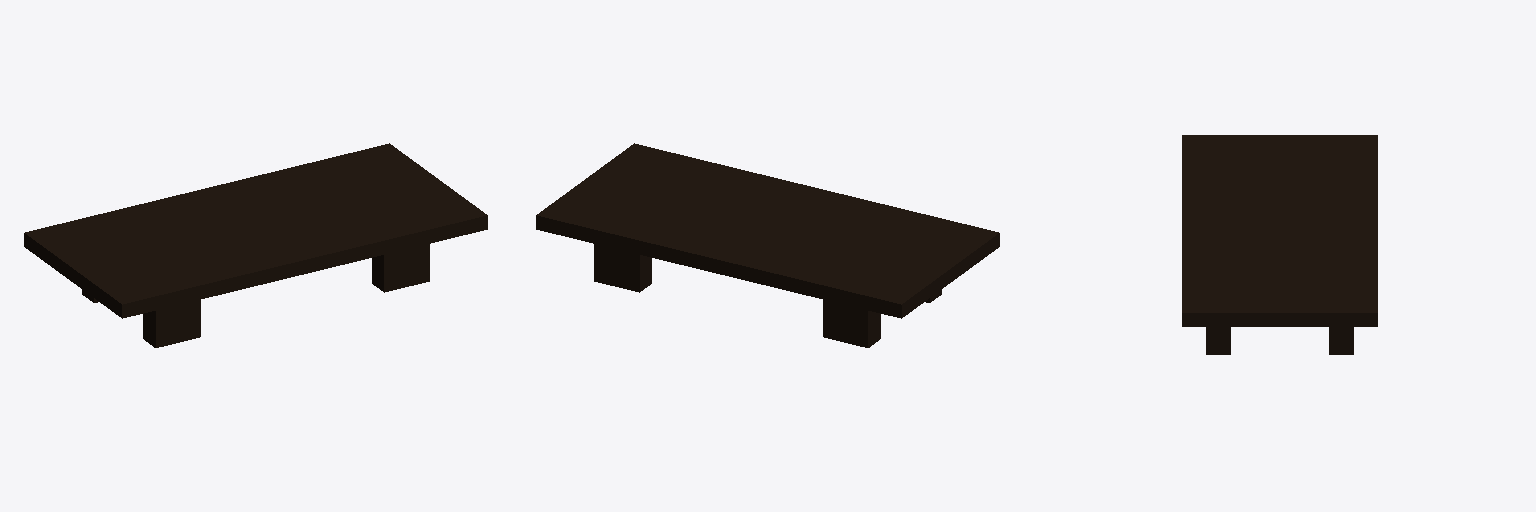
File: coffee_table.obj
The picture shows the model from 3 angles: view 1: azimuth 30°, elevation 25°; view 2: azimuth 150°, elevation 25°; view 3: azimuth 270°, elevation 25°; orthographic projection.
Visible parts, largest first — view 1: coffee_table; view 2: coffee_table; view 3: coffee_table.
Boxes of the visible parts, x1=… form: coffee_table: x1=24, y1=143, x2=487, y2=347; coffee_table: x1=536, y1=143, x2=999, y2=347; coffee_table: x1=1182, y1=135, x2=1377, y2=354.
Size of the model in its own units: 19.37 by 3.24 by 9.01.